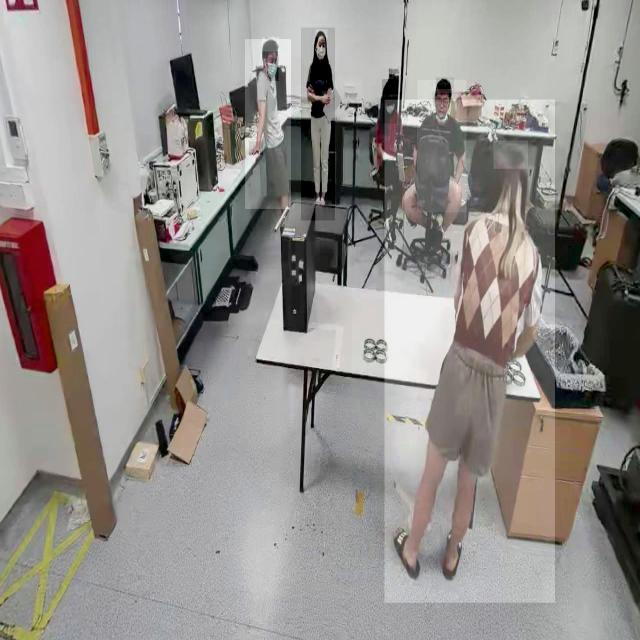face_mask: (383, 97, 397, 123), (266, 54, 278, 82), (316, 40, 326, 61)
face_nomask: (435, 94, 451, 116)
hand_noglove: (249, 142, 263, 156), (322, 91, 332, 105), (306, 82, 316, 94)
head_nohelmet: (493, 140, 528, 170), (382, 79, 398, 95), (262, 38, 280, 52), (435, 77, 454, 90), (315, 29, 327, 38)
person: (384, 100, 555, 604), (245, 39, 291, 210), (417, 80, 467, 212), (301, 28, 335, 222)
